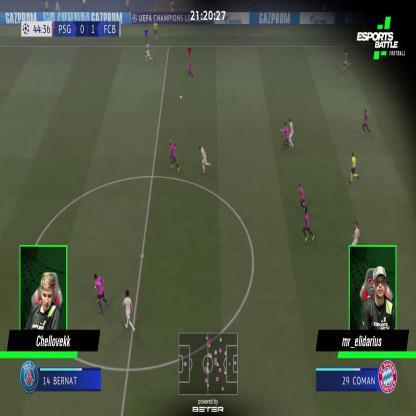ball: (180, 95, 182, 98)
